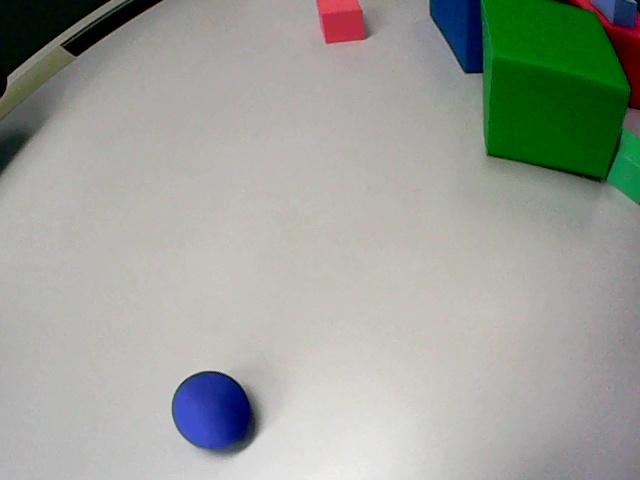blue_block: (430, 0, 482, 72), (591, 0, 637, 27), (613, 0, 637, 27), (591, 0, 616, 22), (0, 66, 7, 97), (636, 1, 639, 12), (557, 0, 568, 3)
red_block: (570, 0, 639, 107), (317, 0, 366, 42)
